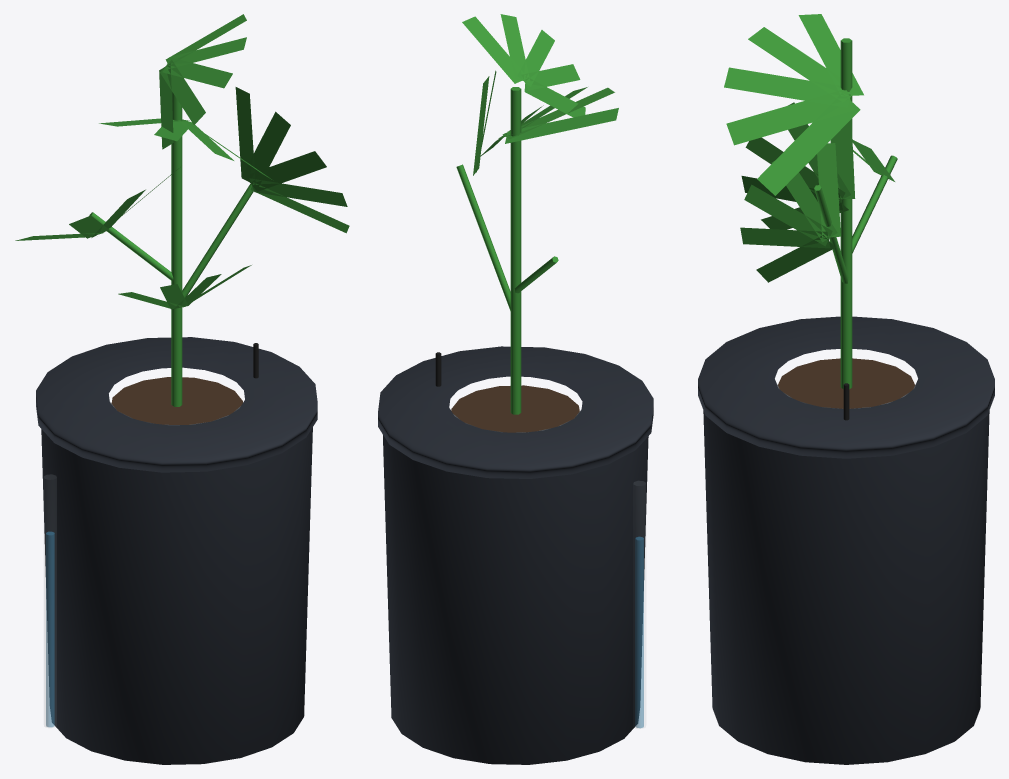
The model's file is dwc-bucket-20l--veg.glb.
The picture shows the model from 3 angles, left to right: view 1: azimuth 30°, elevation 25°; view 2: azimuth 150°, elevation 25°; view 3: azimuth 270°, elevation 25°; orthographic projection. The views are drawn at different scales.
Parts seen in each view (by area): view 1: bucket_body, bucket_lid, plant_leaves, plant_stem, pebbles, sight_water; view 2: bucket_body, bucket_lid, plant_leaves, plant_stem, pebbles, sight_water; view 3: bucket_body, bucket_lid, plant_leaves, pebbles, plant_stem.
Part boxes in pixels (left/top/right/bottom): bucket_body: left=41, top=427, right=312, bottom=764; bucket_lid: left=36, top=337, right=317, bottom=472; plant_leaves: left=15, top=14, right=349, bottom=309; plant_stem: left=89, top=91, right=253, bottom=406; pebbles: left=111, top=377, right=242, bottom=424; sight_water: left=46, top=532, right=54, bottom=726; bucket_body: left=383, top=435, right=648, bottom=764; bucket_lid: left=378, top=346, right=653, bottom=478; plant_leaves: left=462, top=14, right=618, bottom=175; plant_stem: left=456, top=87, right=558, bottom=414; pebbles: left=451, top=385, right=579, bottom=432; sight_water: left=635, top=537, right=643, bottom=727; bucket_body: left=703, top=410, right=989, bottom=764; bucket_lid: left=698, top=316, right=994, bottom=458; plant_leaves: left=724, top=14, right=894, bottom=282; pebbles: left=778, top=358, right=914, bottom=408; plant_stem: left=814, top=38, right=897, bottom=389.
Size of the model in its own units: 0.3588 by 0.8304 by 0.31.
